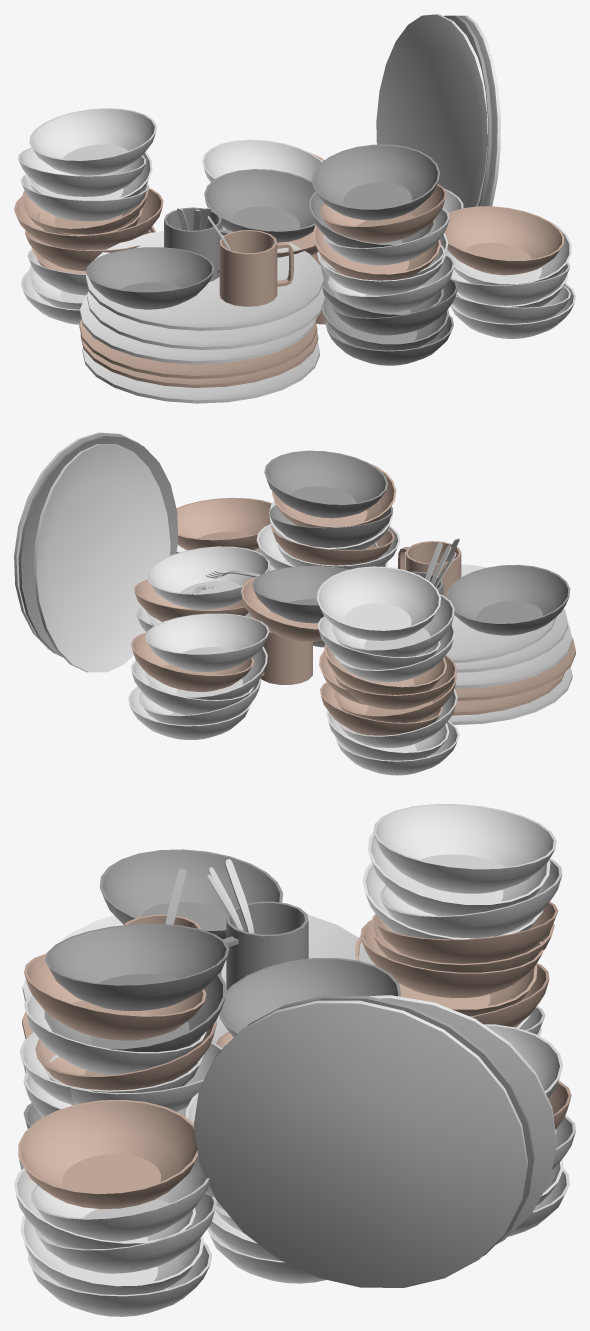
The model's file is dishes0.gltf.
3 views of the same model, one above another, from view 1: azimuth 30°, elevation 25°; view 2: azimuth 150°, elevation 25°; view 3: azimuth 270°, elevation 25° (orthographic). The views are drawn at different scales.
Visible parts, largest first — view 1: dishes; view 2: dishes; view 3: dishes.
Part boxes in pixels (left/top/right/bottom): dishes: left=14, top=14, right=575, bottom=403; dishes: left=14, top=432, right=575, bottom=775; dishes: left=14, top=804, right=575, bottom=1316.
Bounding box in the file's own units: 0.6799 × 0.3268 × 0.5099.
